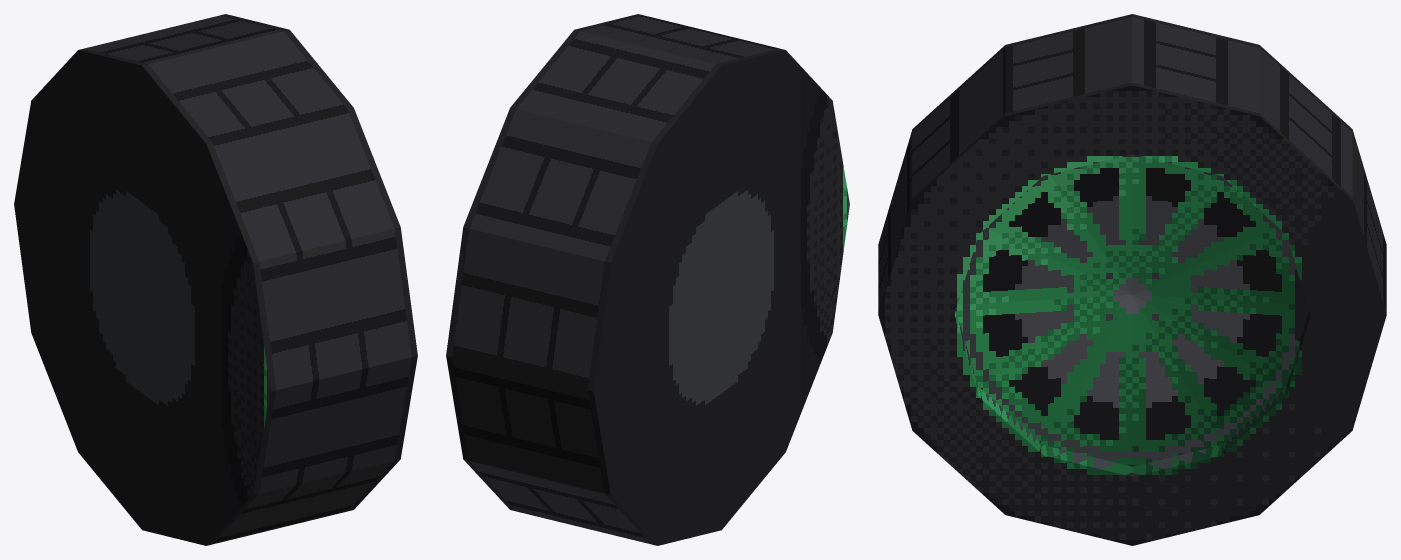
Rendered from wheel_window.glb.
3 views of the same model, side by side, from view 1: azimuth 30°, elevation 25°; view 2: azimuth 150°, elevation 25°; view 3: azimuth 270°, elevation 25° (orthographic).
Parts seen in each view (by area): view 1: wheel_window; view 2: wheel_window; view 3: wheel_window.
Part boxes in pixels (<box>): wheel_window: <box>14,14,417,545</box>; wheel_window: <box>446,14,849,545</box>; wheel_window: <box>878,14,1386,545</box>.
Size of the model in its own units: 0.205 by 0.6163 by 0.6163.
1 material, 1 textured.
